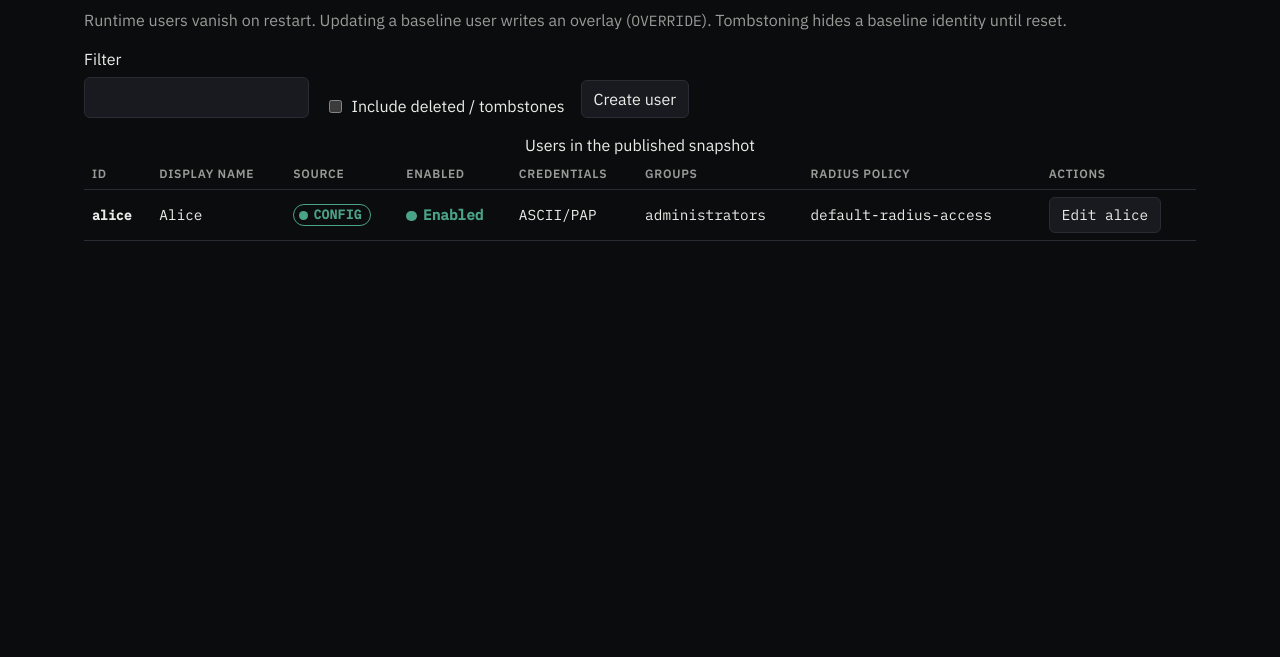
UsersPage › includes must-change flags in the stale-write compare
The image size is (1280, 657).
Click the button "Edit alice". click: [1105, 215]
box: [1049,198,1161,233]
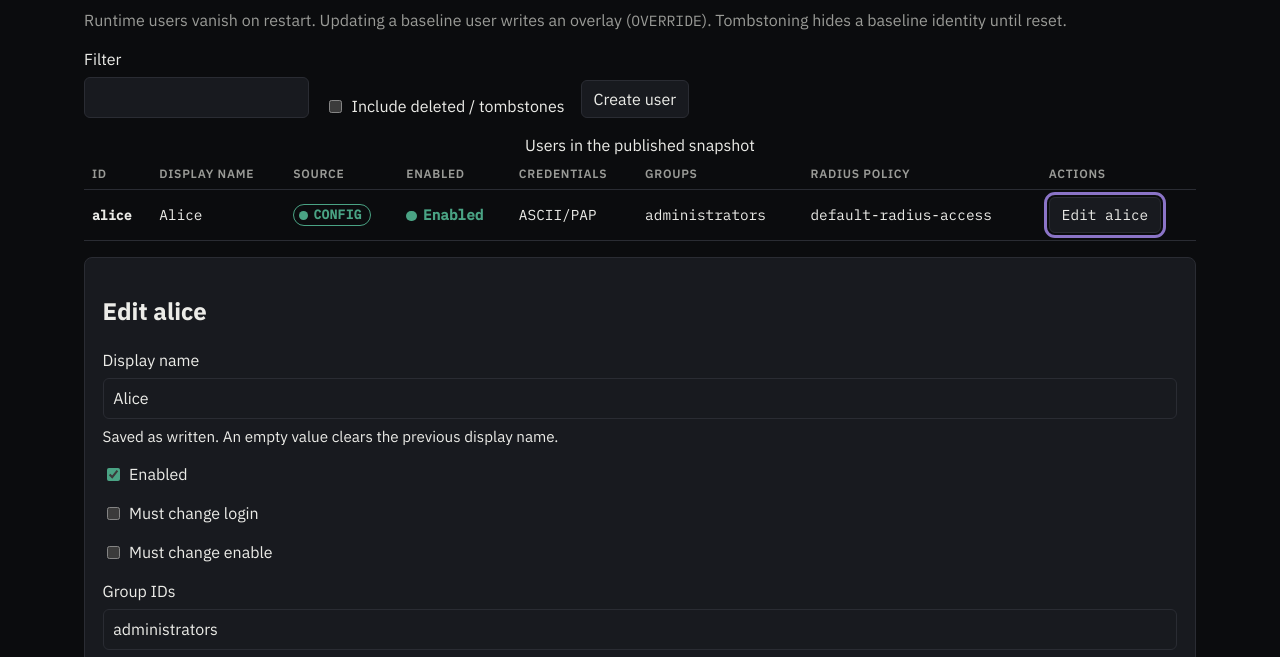
Click the checkbox labelled "Must change login". click: [113, 513]
box: [107,507,120,520]
(page scrolled)
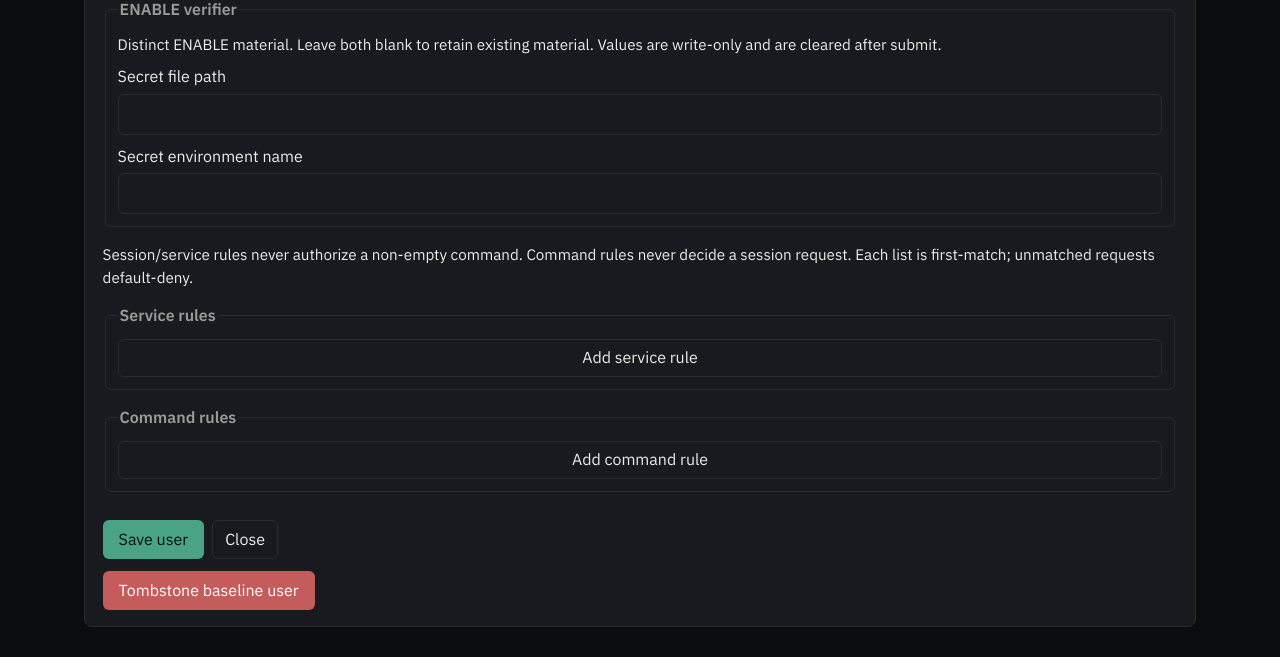
Click the button "Save user". click: [153, 539]
box: [103,520,204,559]
(page scrolled)
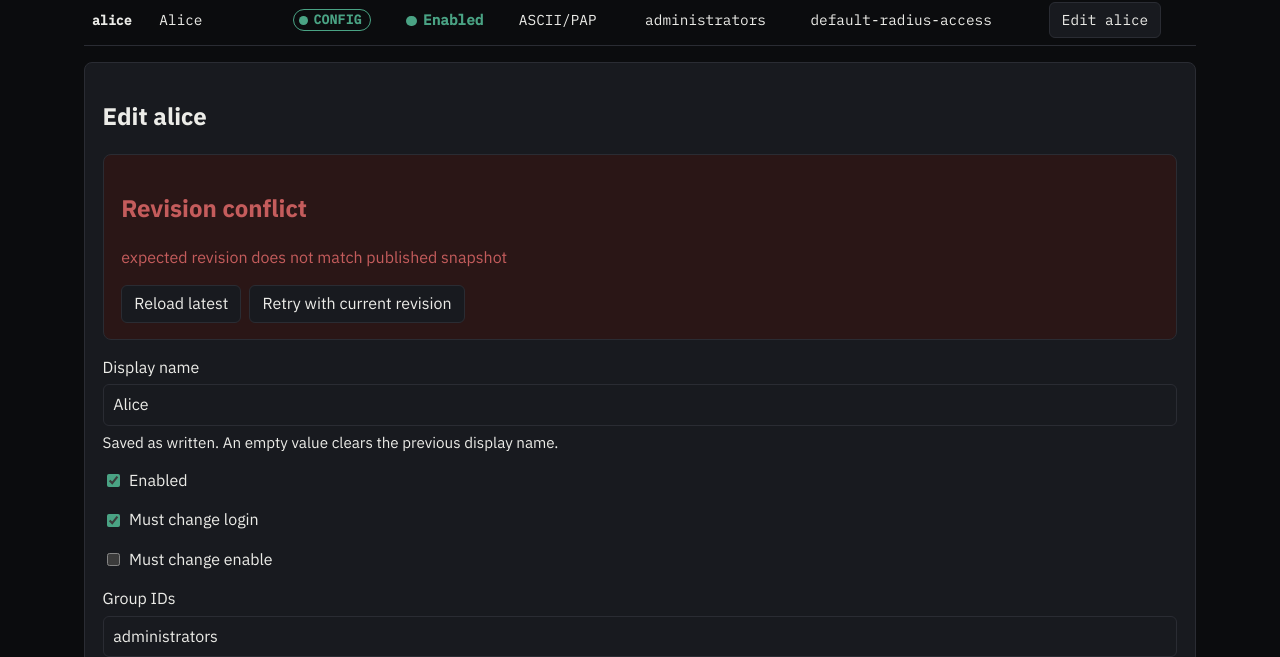
Check: the heading "Revision conflict" is shown, box [121,192,307,224]
Click the button "Reload latest". click: [181, 304]
box: [121,285,241,323]
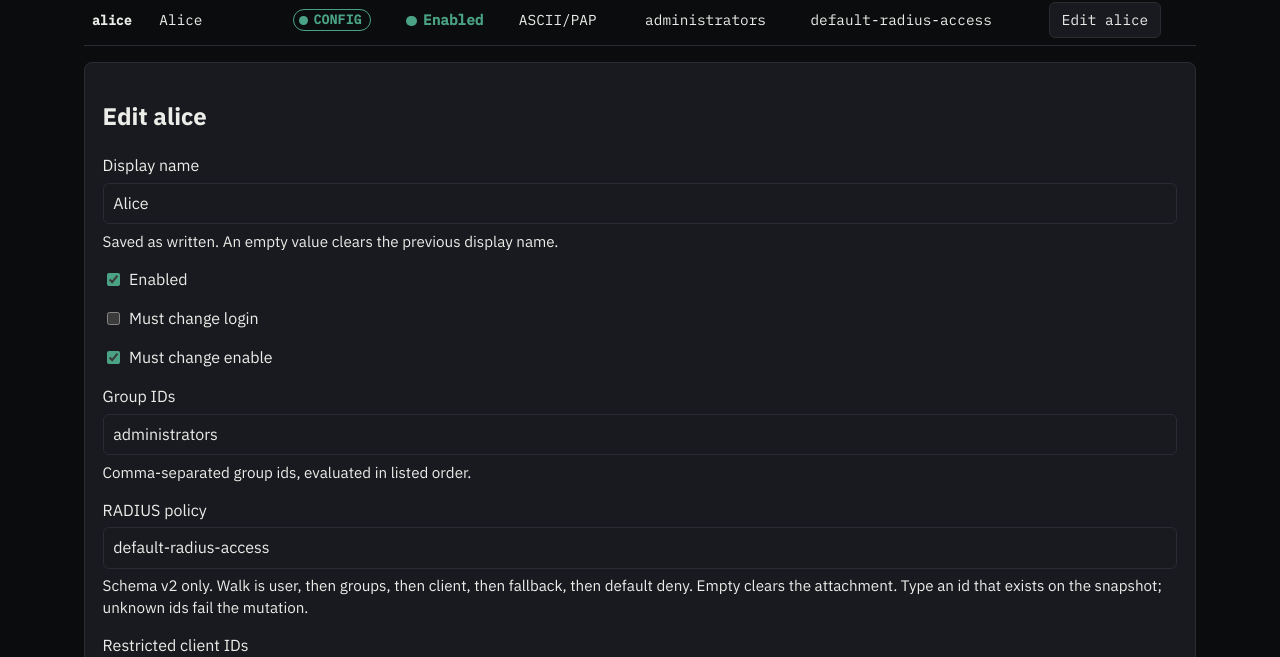
Check: the checkbox labelled "Must change login" is not checked, box [107,312,120,325]
Check: the checkbox labelled "Must change enable" is checked, box [107,351,120,364]
